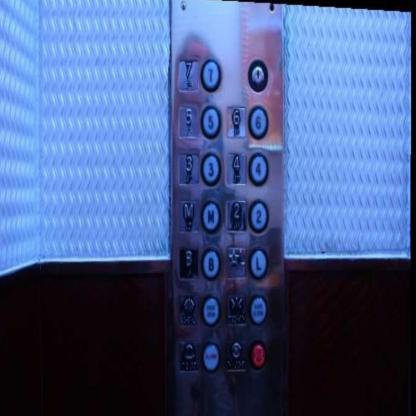2: (226, 198, 247, 232), (248, 199, 269, 233)
3: (200, 151, 222, 186), (177, 151, 199, 185)
4: (226, 152, 248, 185), (247, 152, 269, 185)
5: (178, 106, 200, 140), (200, 105, 222, 139)
6: (248, 106, 269, 140), (226, 104, 246, 139)
7: (199, 56, 222, 91), (177, 57, 199, 91)
B: (178, 246, 199, 280), (200, 247, 221, 280)
L: (249, 245, 270, 280)
M: (178, 198, 199, 233), (200, 199, 221, 233)
alarm: (177, 339, 201, 372)
close: (226, 293, 247, 326)
keyhole: (248, 57, 269, 94)
open: (177, 292, 199, 327)
sL: (225, 244, 247, 280)
stop: (224, 338, 248, 371), (248, 339, 269, 372)
text_blur: (201, 340, 222, 374), (200, 294, 221, 327), (248, 293, 268, 326)
